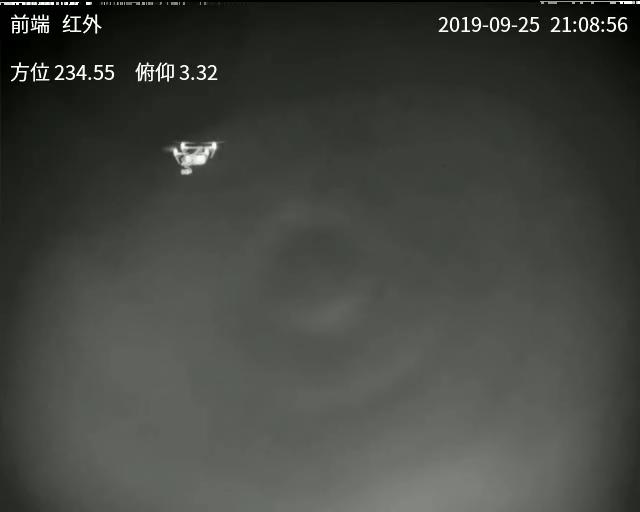uav: (165, 133, 219, 179)
